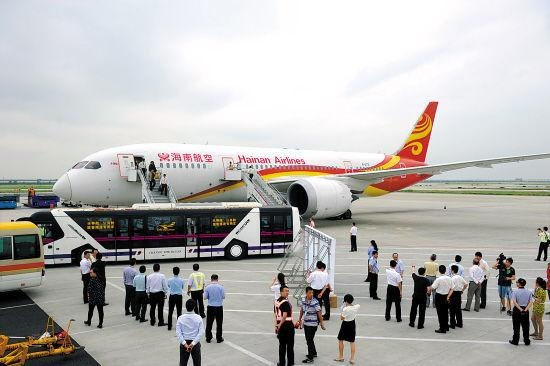airplane: (49, 97, 550, 210)
